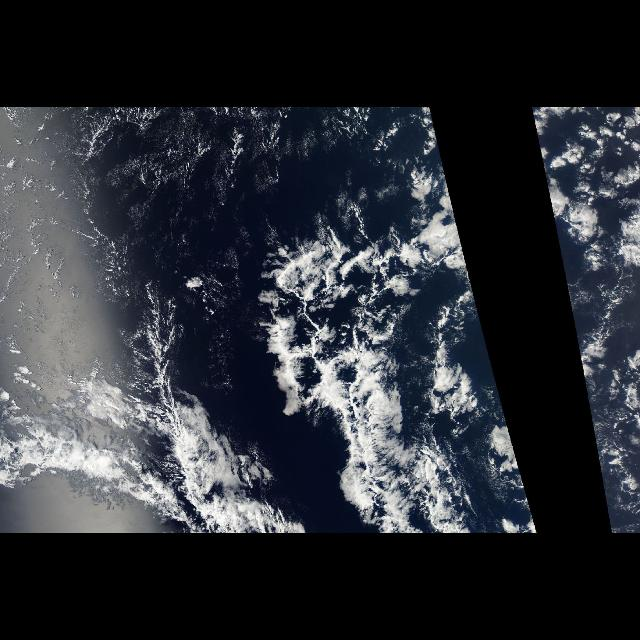Fish: (8, 215, 496, 533)
Flower: (532, 114, 638, 260), (410, 114, 462, 250)
Sugar: (12, 113, 342, 239)
